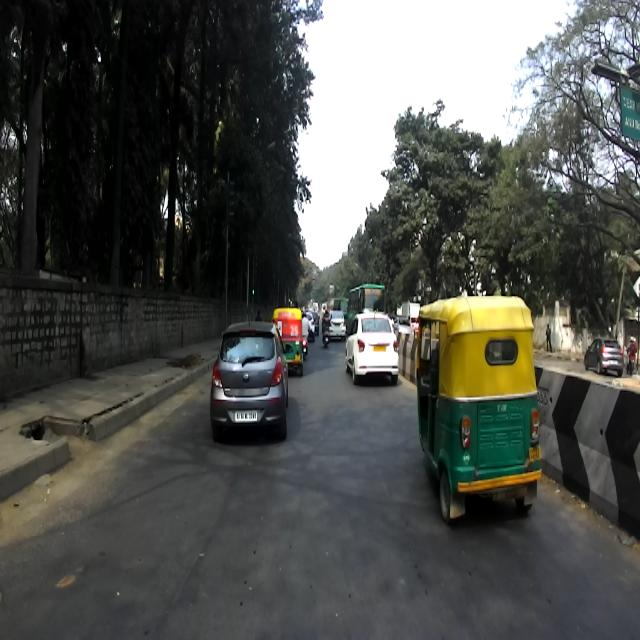auto ahead at: (410, 299, 546, 523)
car ahead at: (212, 313, 290, 440), (344, 313, 400, 389)
